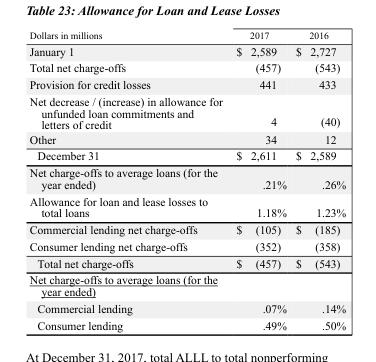table: (28, 29, 345, 331)
table column: (28, 29, 228, 331), (228, 29, 290, 331), (290, 29, 345, 331)
table column header: (28, 29, 345, 42)
table projected row header: (28, 271, 345, 299)
table row: (28, 92, 345, 131), (28, 163, 345, 192), (28, 192, 345, 220), (28, 271, 345, 299), (28, 42, 345, 59), (28, 75, 345, 92), (28, 220, 345, 237), (28, 237, 345, 254), (28, 254, 345, 271), (28, 299, 345, 316), (28, 59, 345, 75), (28, 131, 345, 147), (28, 147, 345, 163), (28, 316, 345, 331), (28, 29, 345, 42)
